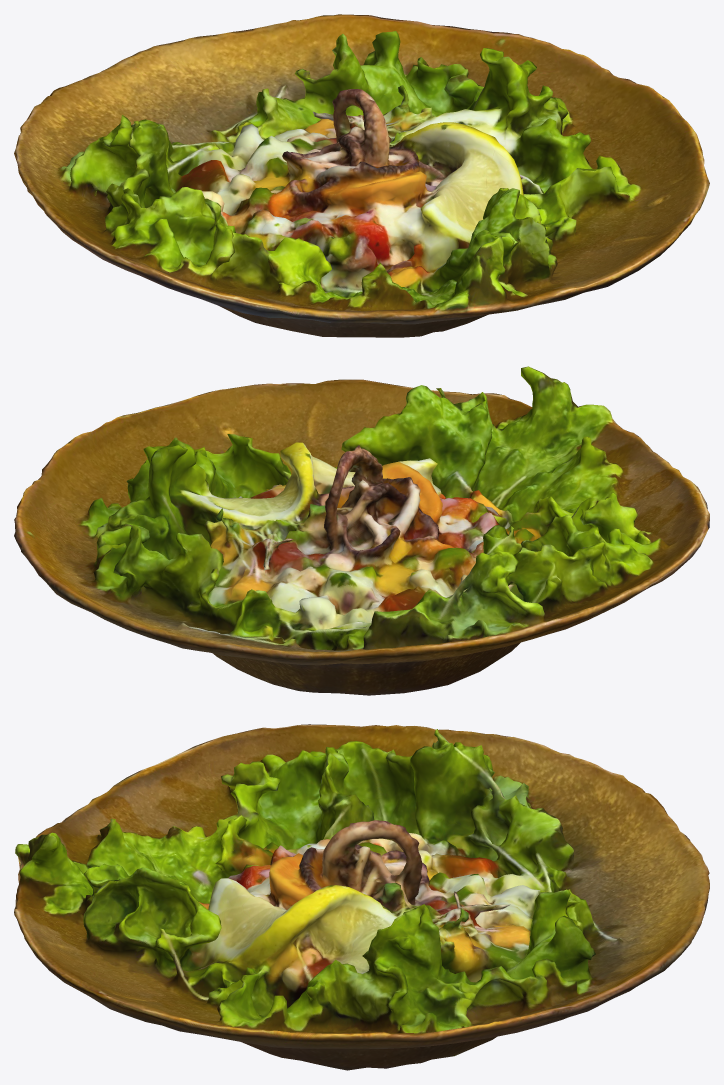
The model's file is salade-de-poulpe.glb.
The picture shows the model from 3 angles, top to bottom: view 1: azimuth 30°, elevation 25°; view 2: azimuth 150°, elevation 25°; view 3: azimuth 270°, elevation 25°; orthographic projection.
Visible parts, largest first — view 1: /ObjectCapture/Geometry/Mesh; view 2: /ObjectCapture/Geometry/Mesh; view 3: /ObjectCapture/Geometry/Mesh.
Part boxes in pixels (x1,y1,x2,y2): /ObjectCapture/Geometry/Mesh: (14,14,709,337); /ObjectCapture/Geometry/Mesh: (14,366,709,695); /ObjectCapture/Geometry/Mesh: (14,724,709,1070).
Size of the model in its own units: 0.2724 by 0.0837 by 0.2696.
1 material, 1 textured.
